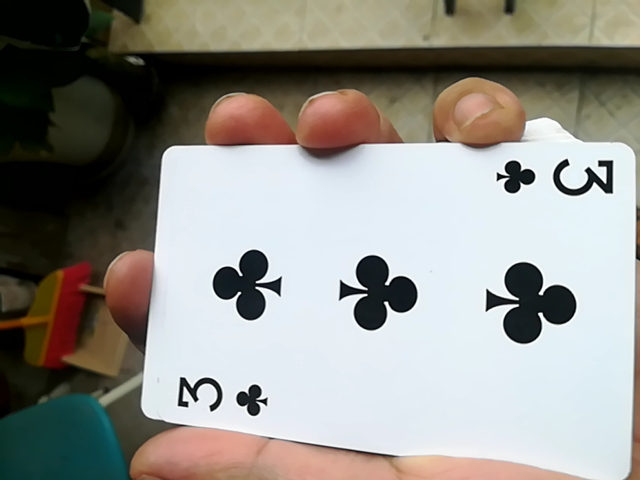mh 3: (125, 139, 631, 480)
